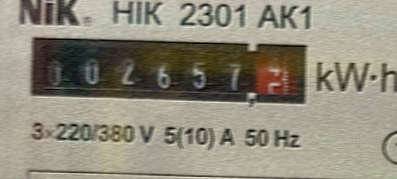0: (85, 53, 101, 83), (47, 55, 64, 83)
2: (121, 54, 138, 83)
4: (268, 48, 283, 74)
5: (193, 56, 209, 87), (268, 77, 283, 92)
6: (158, 57, 172, 86)
7: (229, 57, 244, 89)
screen: (24, 23, 319, 112)
